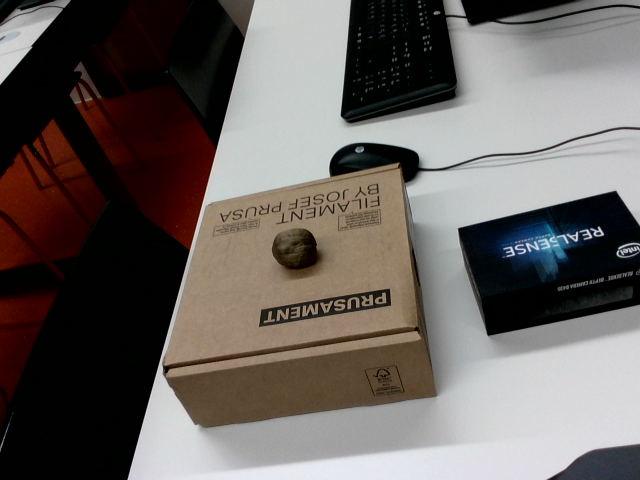walnut: (272, 228, 316, 268)
